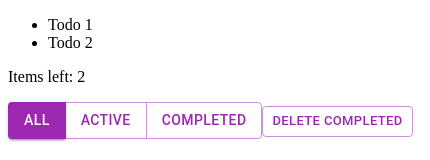
TodoList Component › filters todos based on selected type
expect the list item "Todo 1" is shown: met, box top-left (48, 16), bottom-right (93, 33)
expect the list item "Todo 2" is shown: met, box top-left (48, 34), bottom-right (93, 51)
Click the button "Completed": (204, 120) top-left (146, 102), bottom-right (262, 138)
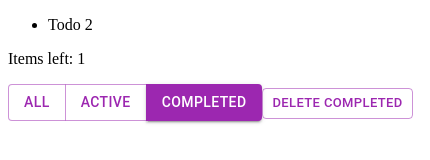
expect the list item "Todo 2" is shown: met, box top-left (48, 16), bottom-right (93, 33)
expect the list item "Todo 1" is gone: met
